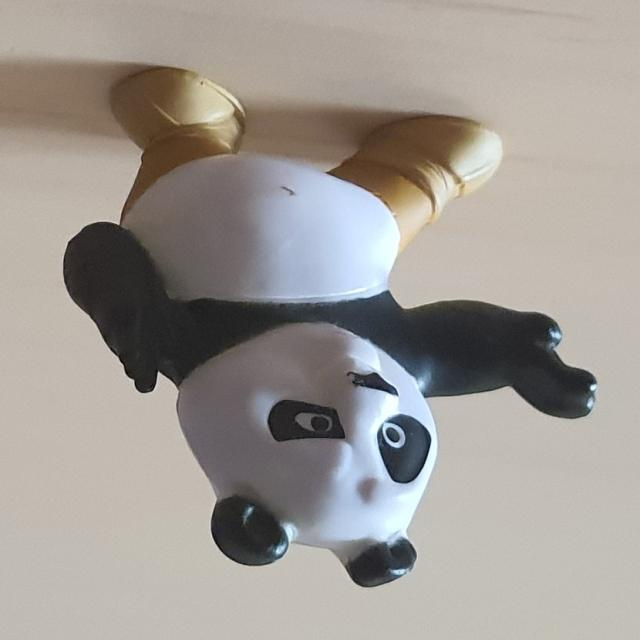Panda: (62, 67, 598, 590)
